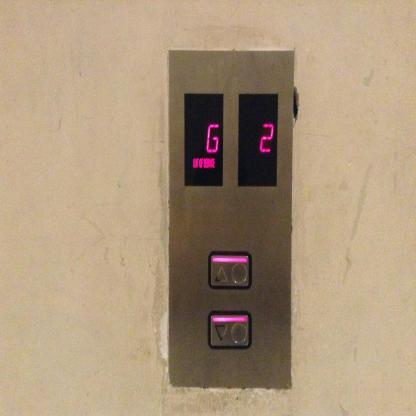down: (207, 310, 251, 350)
led: (183, 93, 224, 188), (237, 93, 277, 188)
up: (208, 252, 252, 290)
